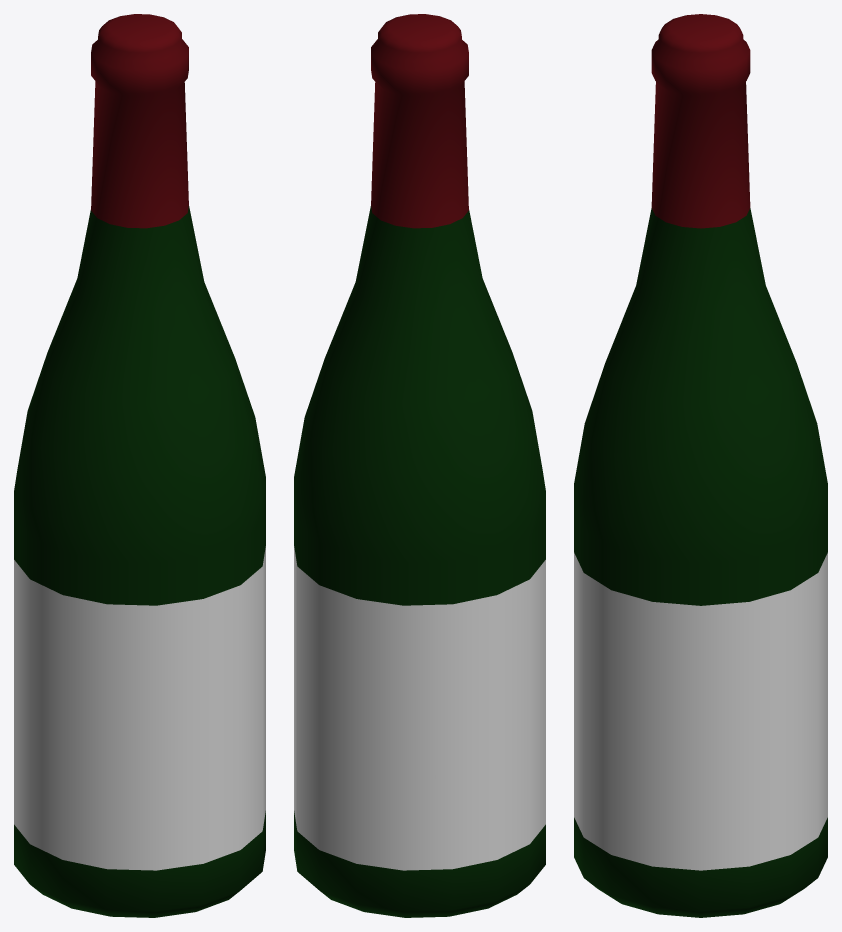
File: Bottle 1.fbx
3 views of the same model, side by side, from view 1: azimuth 30°, elevation 25°; view 2: azimuth 150°, elevation 25°; view 3: azimuth 270°, elevation 25° (orthographic).
Parts seen in each view (by area): view 1: Bottle 1; view 2: Bottle 1; view 3: Bottle 1.
Part boxes in pixels (bbox=[...]): Bottle 1: bbox=[14, 14, 265, 917]; Bottle 1: bbox=[294, 14, 545, 917]; Bottle 1: bbox=[574, 14, 827, 917].
Bounding box in the file's own units: 71.21 × 264 × 71.21.
